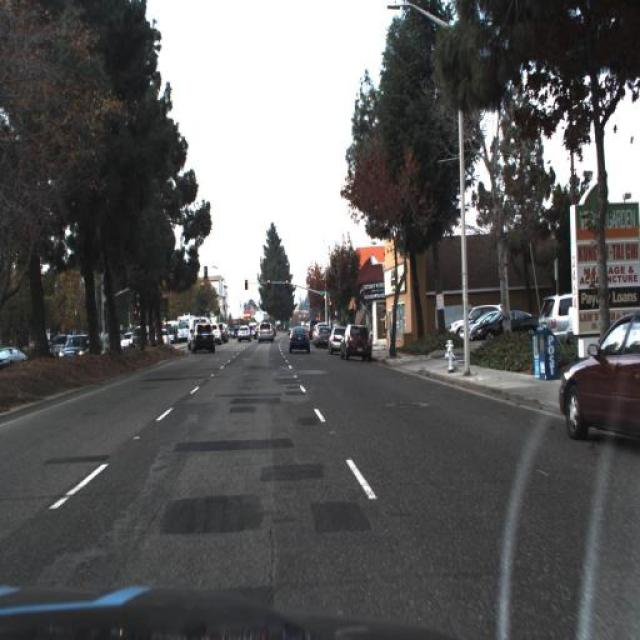car: (558, 310, 640, 450), (468, 304, 532, 341), (535, 286, 575, 336), (340, 320, 374, 368), (56, 331, 95, 359), (282, 320, 314, 354), (188, 320, 218, 355), (311, 318, 337, 352), (325, 319, 345, 361), (314, 321, 334, 352), (256, 317, 276, 345), (236, 326, 252, 344)
